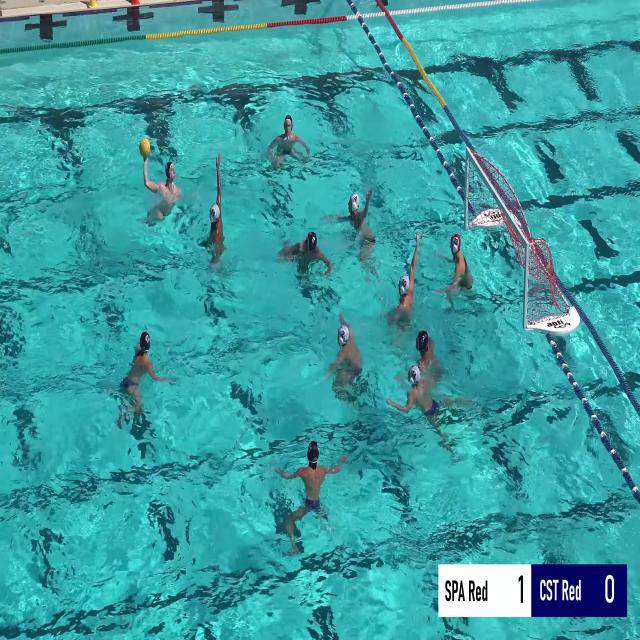ball: (139, 138, 150, 158)
